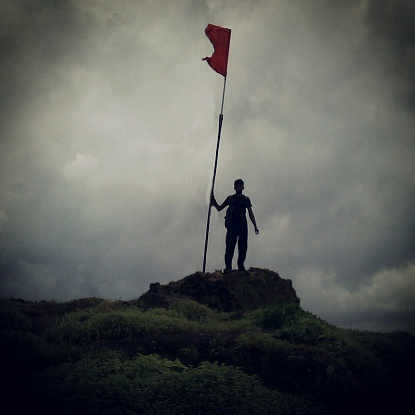em pe: (213, 178, 251, 269)
